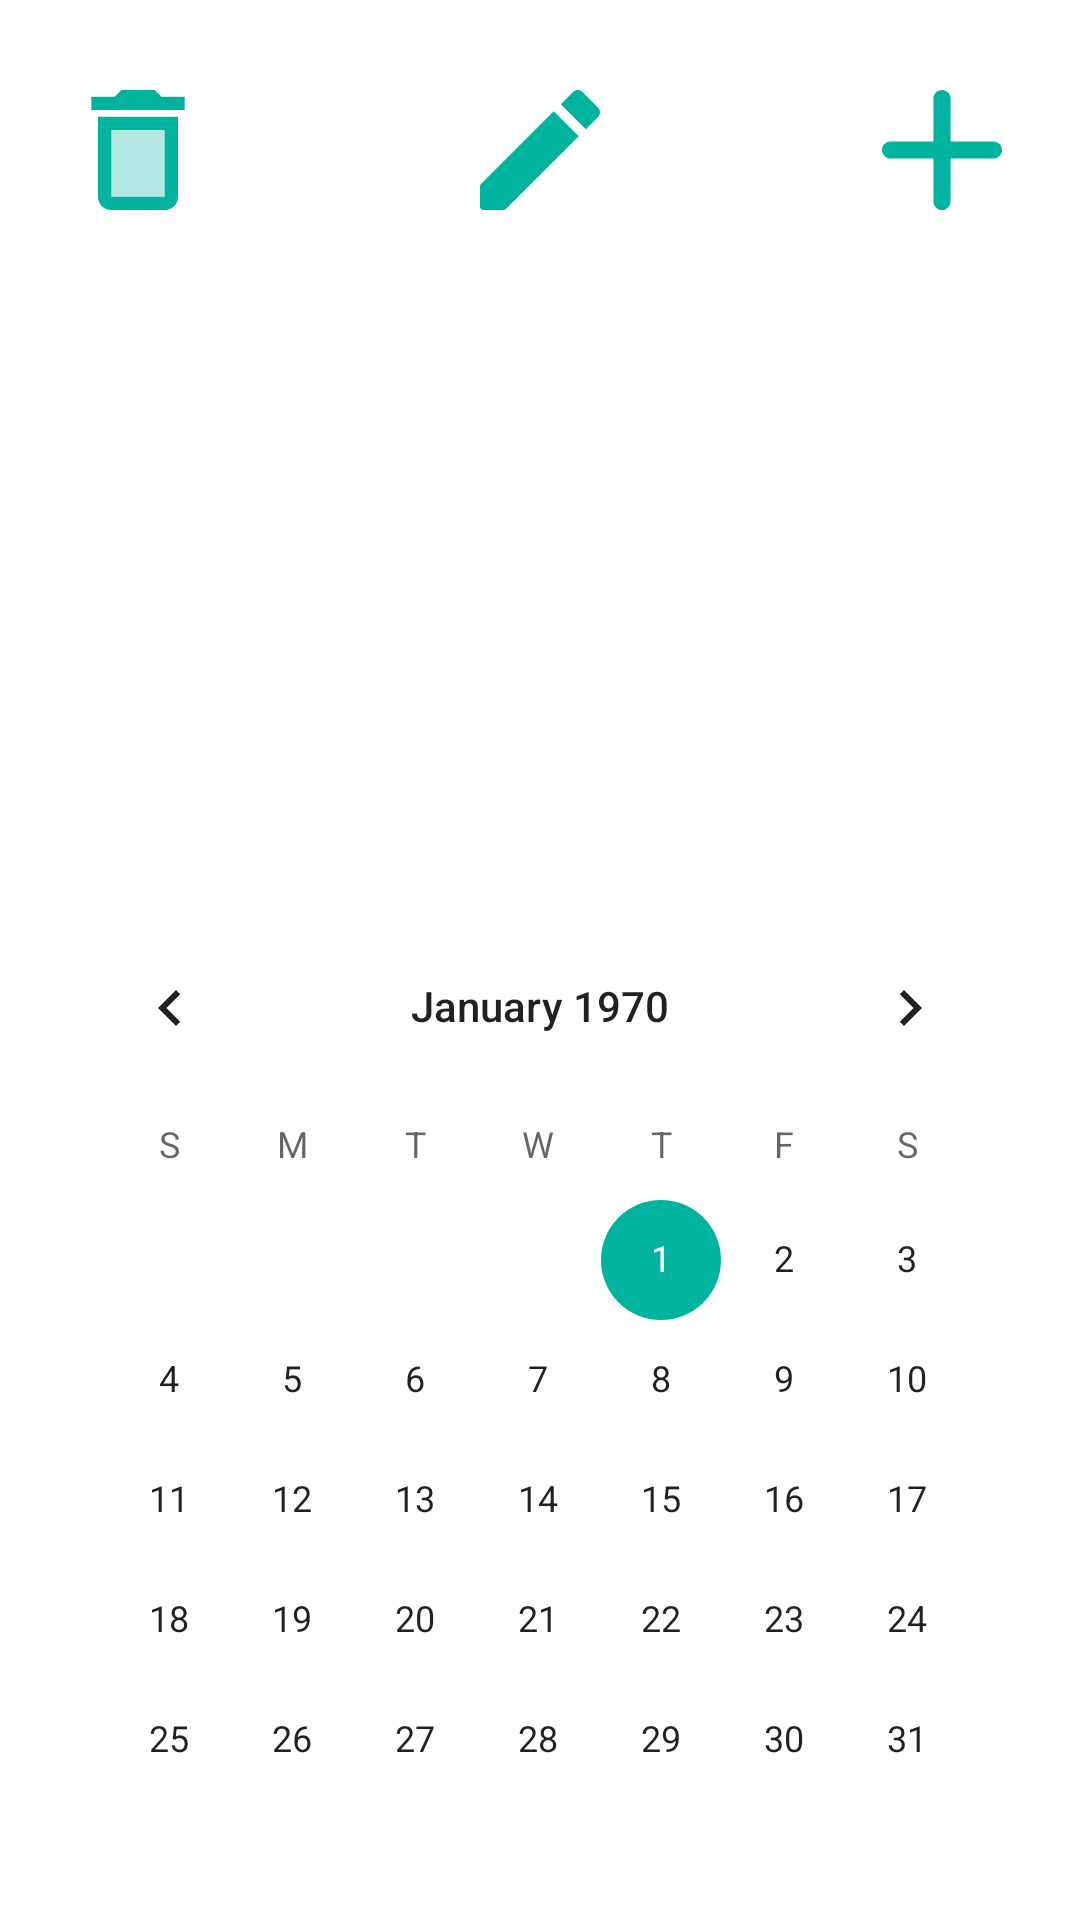

Named icons in this screenshot (1080*1920) and their bounding boxes, (x1, y1, x2, y2):
Delete an entry from the database: (91, 90, 185, 210)
Edit an entry in the database: (480, 90, 600, 210)
Insert an entry into the database: (882, 90, 1002, 210)
